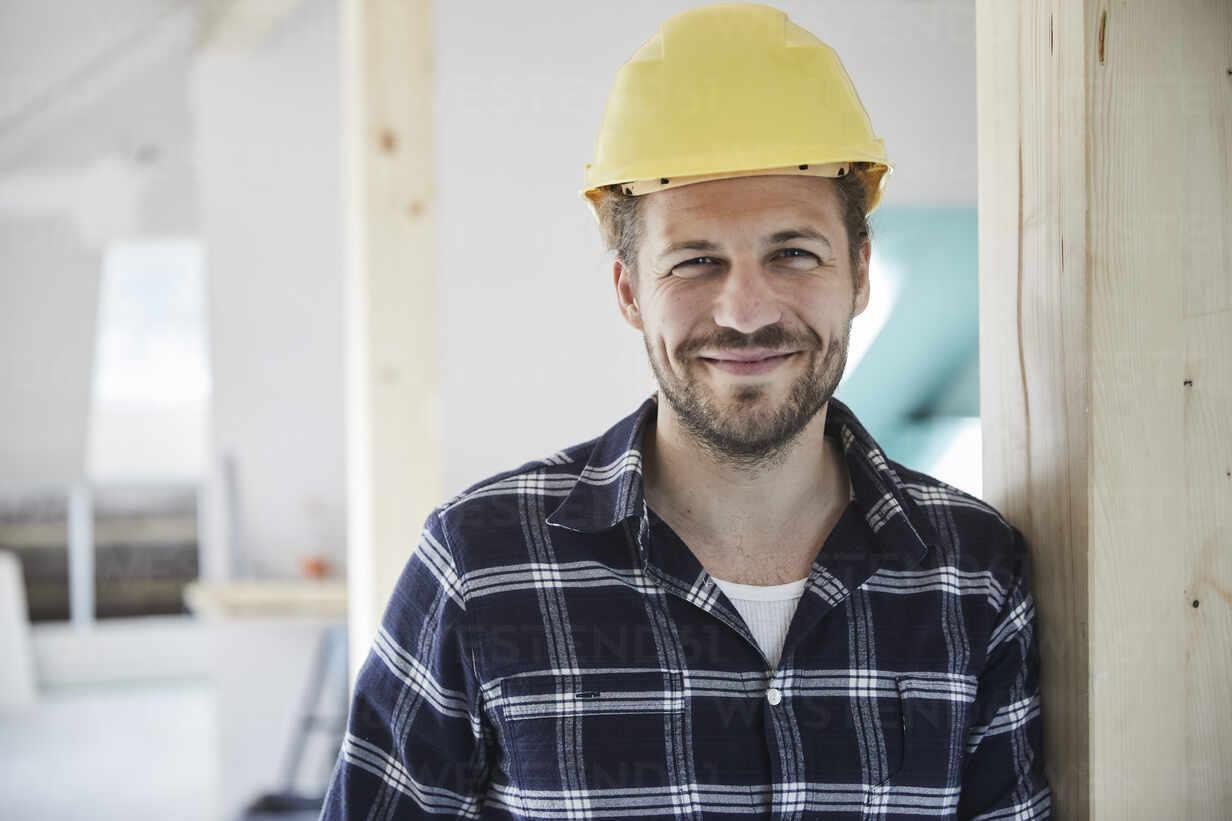hardhat: (580, 1, 897, 198)
worker: (318, 3, 1053, 817)
